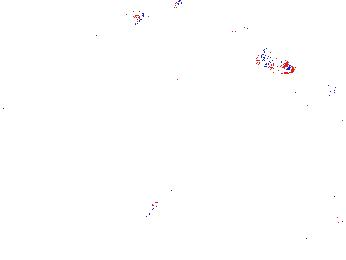glassfish: (248, 130, 313, 161), (136, 183, 176, 222)
red belly glassfish: (208, 21, 252, 40), (256, 55, 296, 75)
redtail glassfish: (131, 1, 185, 27)
